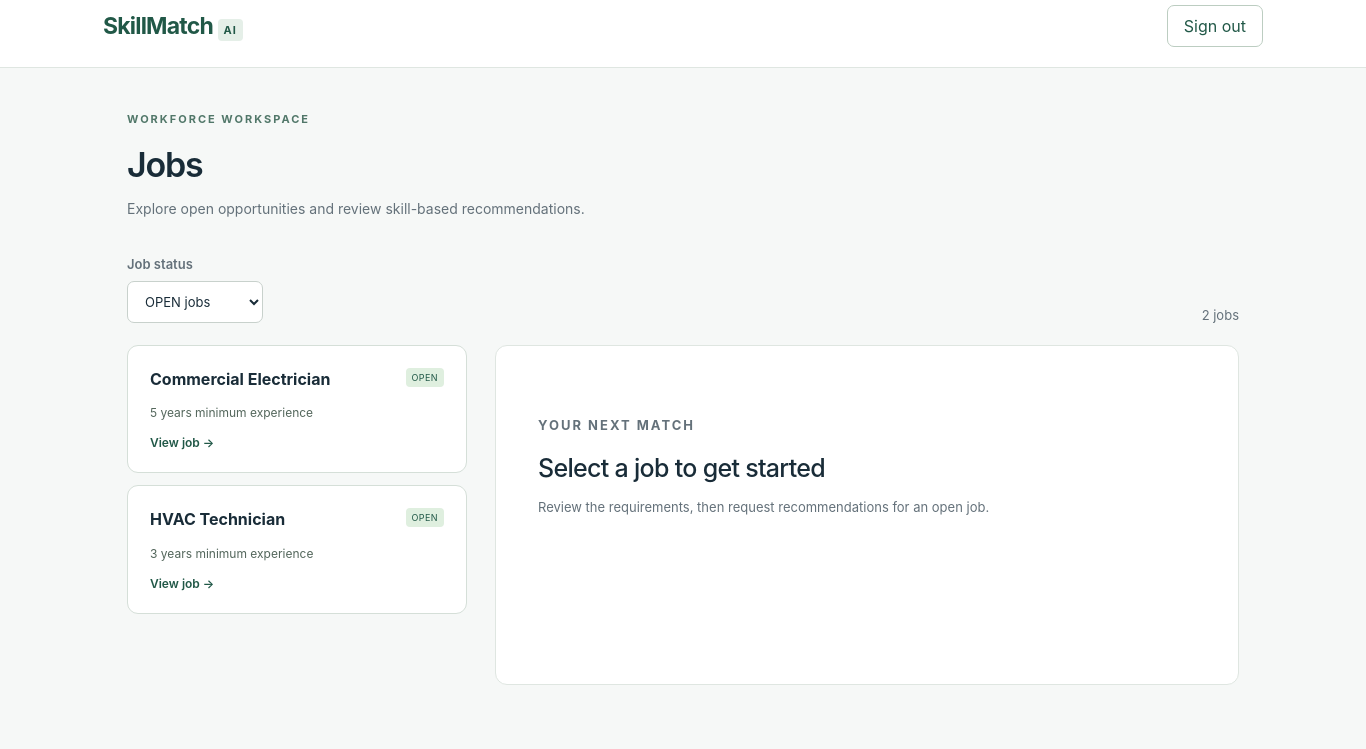
Test: selected job details and snake_case request options use canonical URLs
The width and height of the screenshot is (1366, 749).
What coordinates should you click on to do the following:
click the button "Commercial Electrician"
I would click on:
 (297, 409)
Its box is [127,345,467,473].
(page scrolled)
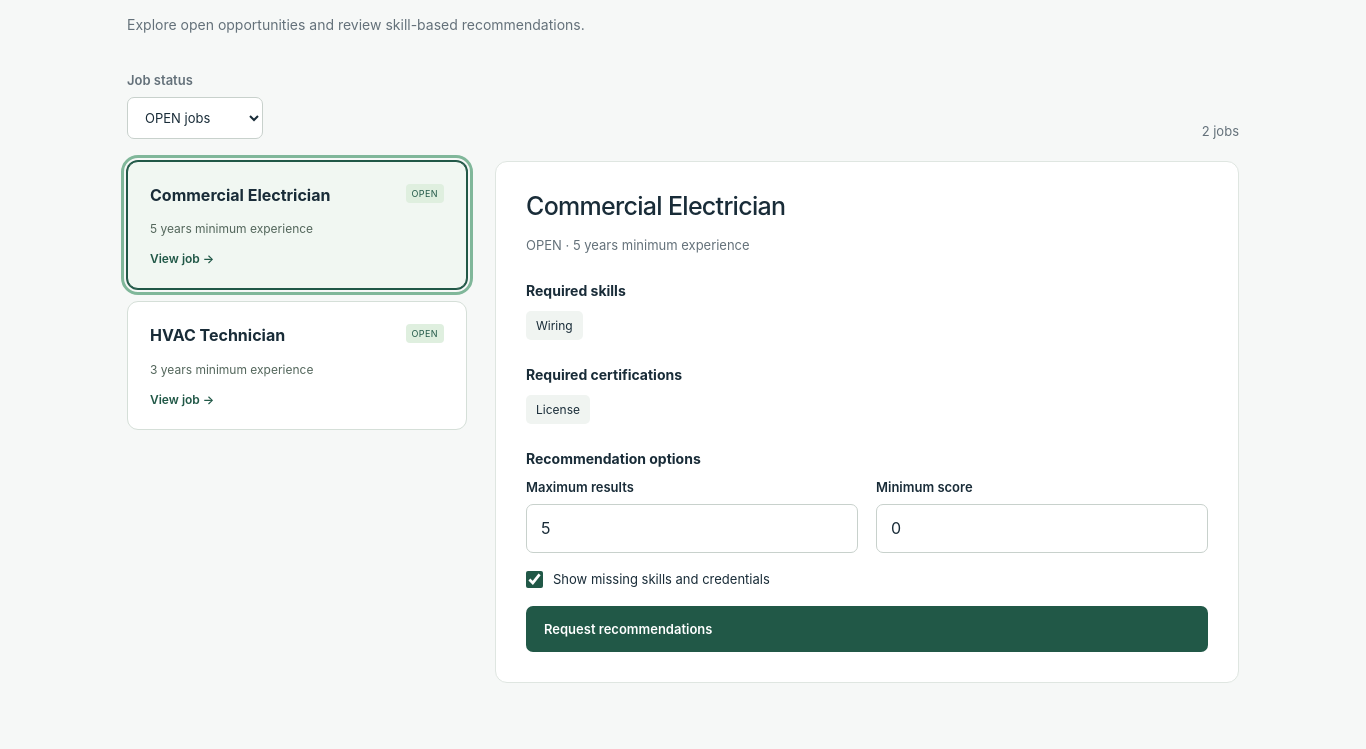
Result: the text "Wiring" is shown at [526,311,583,340]
What coordinates should you click on to do the following:
click the button "Request recommendations"
I would click on:
 (628, 629)
Its box is [526,606,1208,652].
(page scrolled)
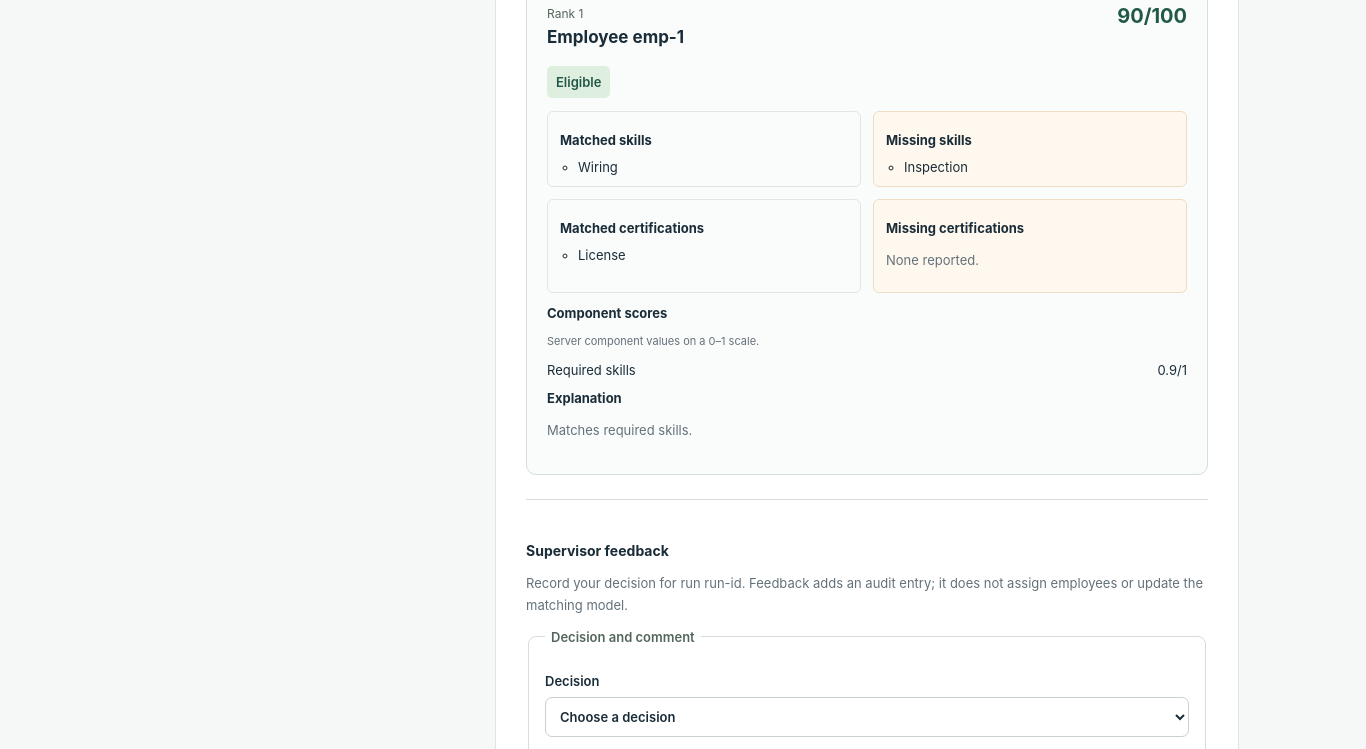
Result: the heading "Employee emp-1" is shown at [547,27,684,47]
Result: the text "Rank 1" is shown at [547,6,583,21]
Result: the list item "Inspection" is shown at [904,159,968,175]
